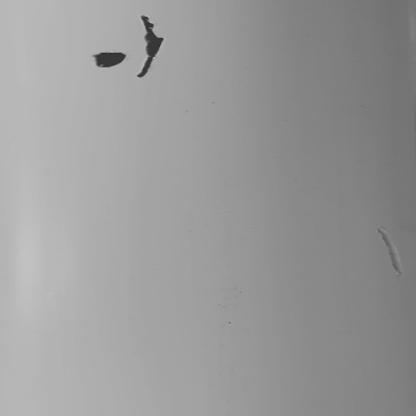kongdong: (135, 15, 167, 80), (91, 51, 128, 69)
sunshang: (377, 224, 405, 282)
